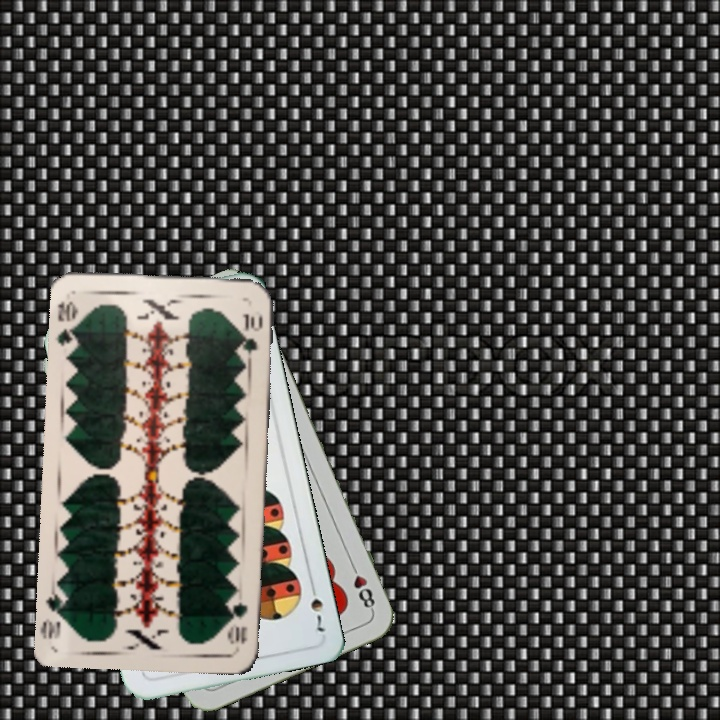G10: (53, 297, 81, 353), (225, 598, 250, 646)
H8: (345, 558, 378, 614)
S7: (306, 578, 328, 635)
